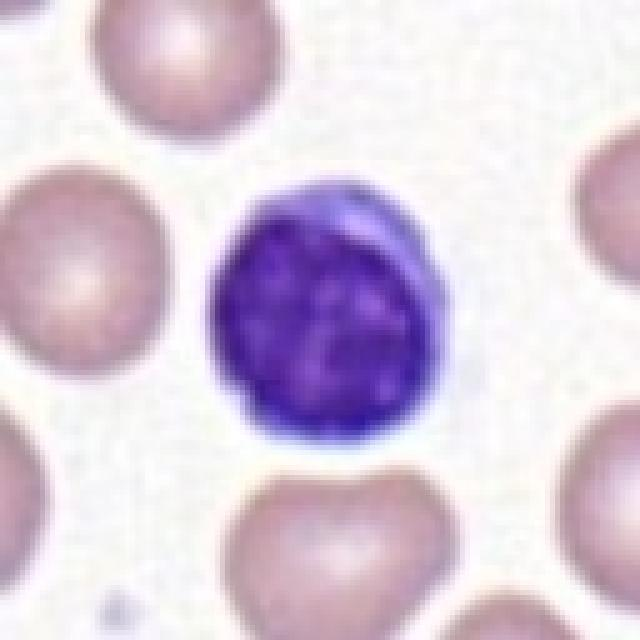lympho: (203, 168, 453, 445)
